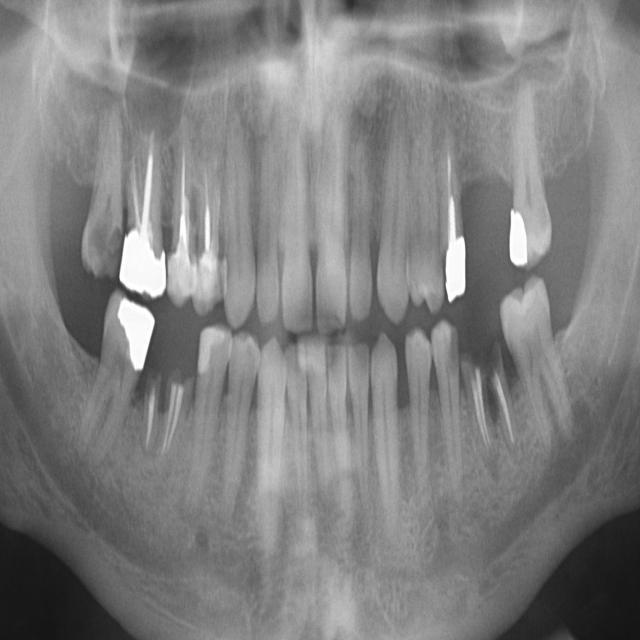infected-teeth: (119, 112, 171, 297), (191, 141, 226, 313), (435, 126, 468, 305), (167, 126, 195, 312)
